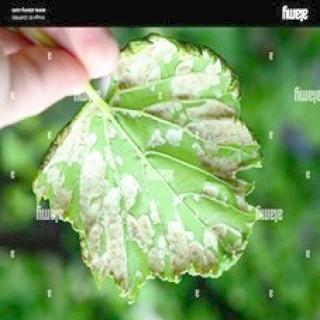grey mildew: (49, 116, 261, 280)
